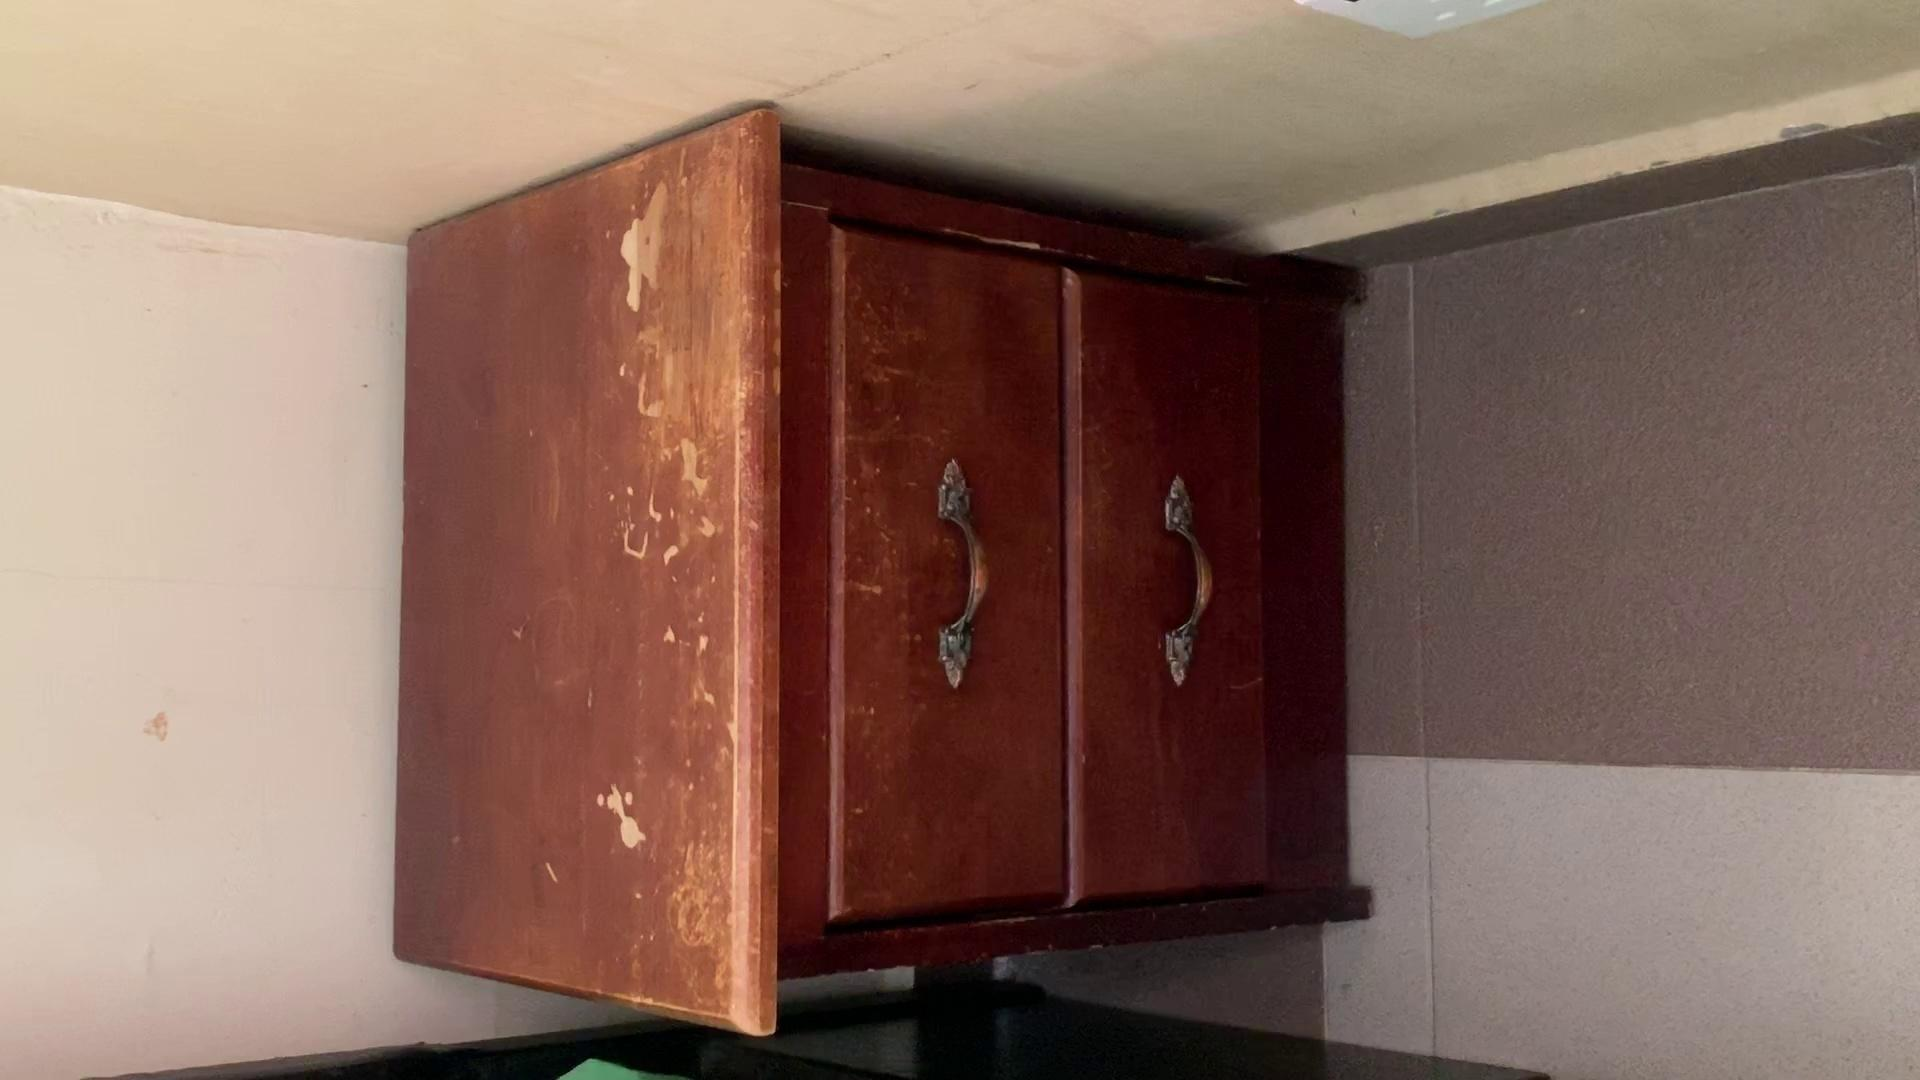cabinet_door: (808, 243, 1062, 927), (1065, 278, 1258, 909)
handle: (928, 448, 998, 695), (1141, 467, 1217, 691)
